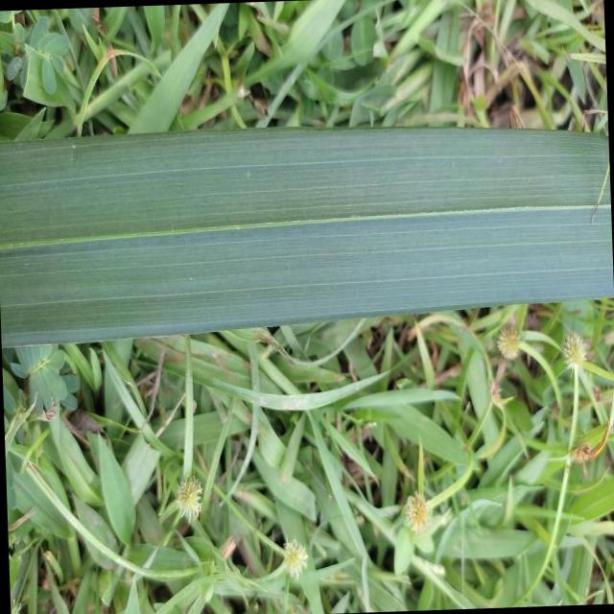Healthy: (1, 121, 614, 350)
